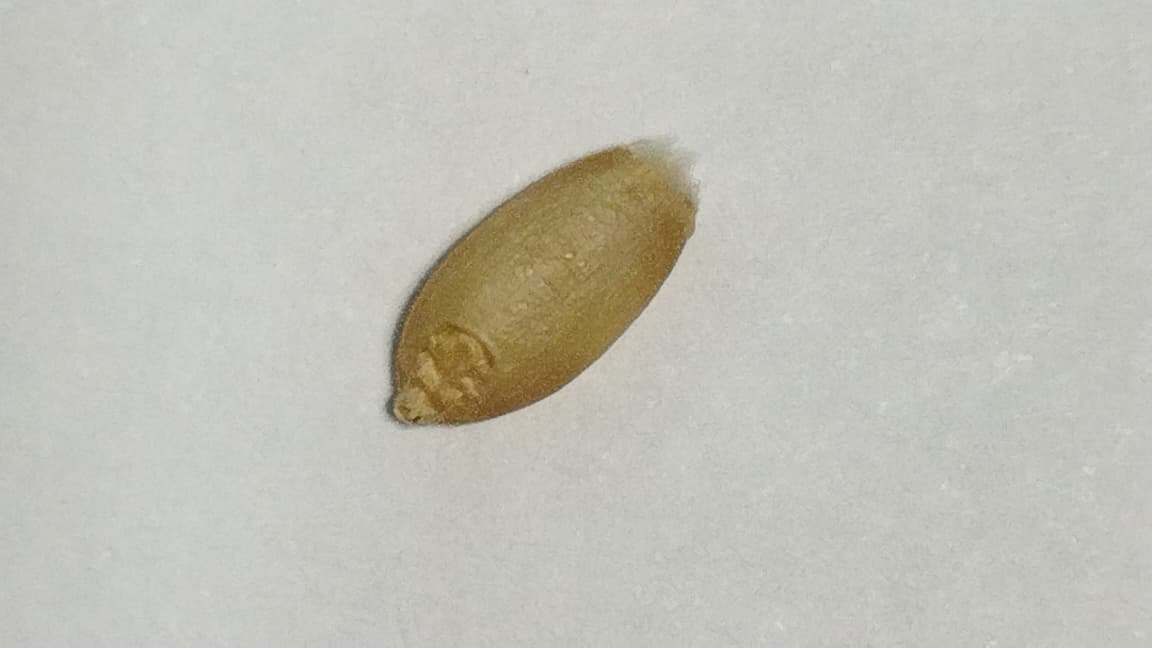healthy: (386, 135, 699, 425)
